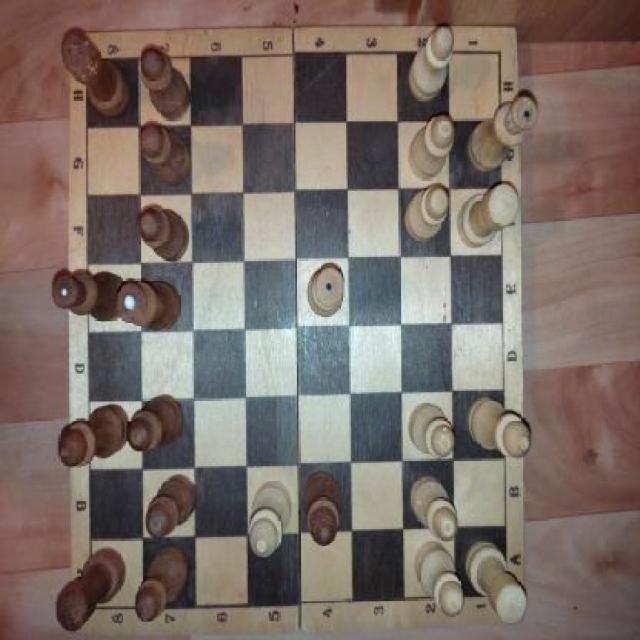chess-table-corners: (70, 572, 118, 634), (481, 558, 528, 620), (70, 28, 112, 96), (472, 26, 518, 86)
